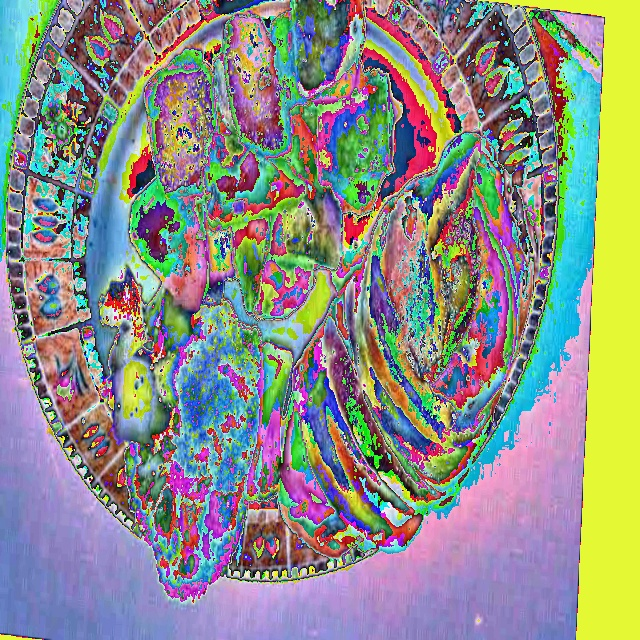background: (98, 0, 537, 608)
